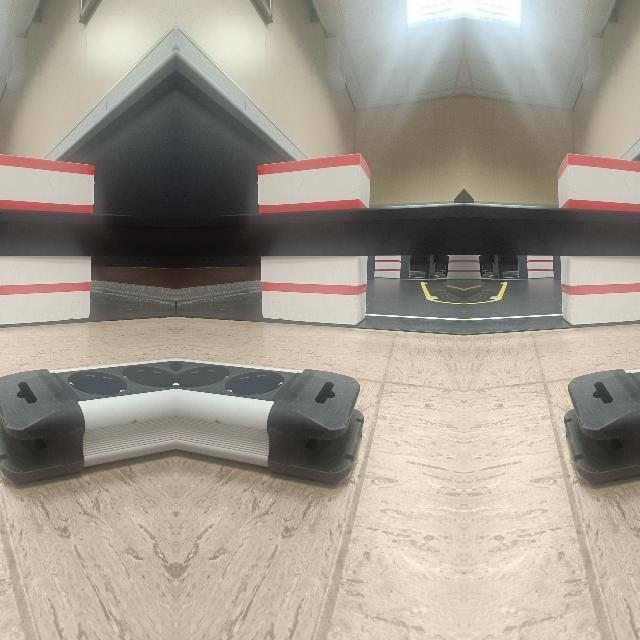obstacle: (175, 348, 365, 486), (0, 348, 175, 485), (562, 348, 640, 485)
